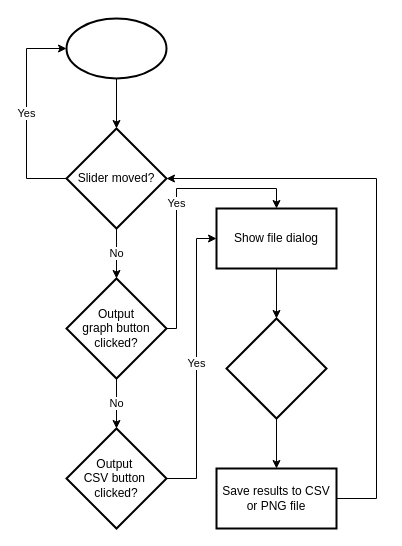
Some shapes in this 402 by 546 pixel diagram are drawn without their labels. The shapes that lost their labels are listed below. From the top down, each one's centre as x and y in pixels, then its label:
[116,48]: Display/update graph of results
[276,368]: File writable?
